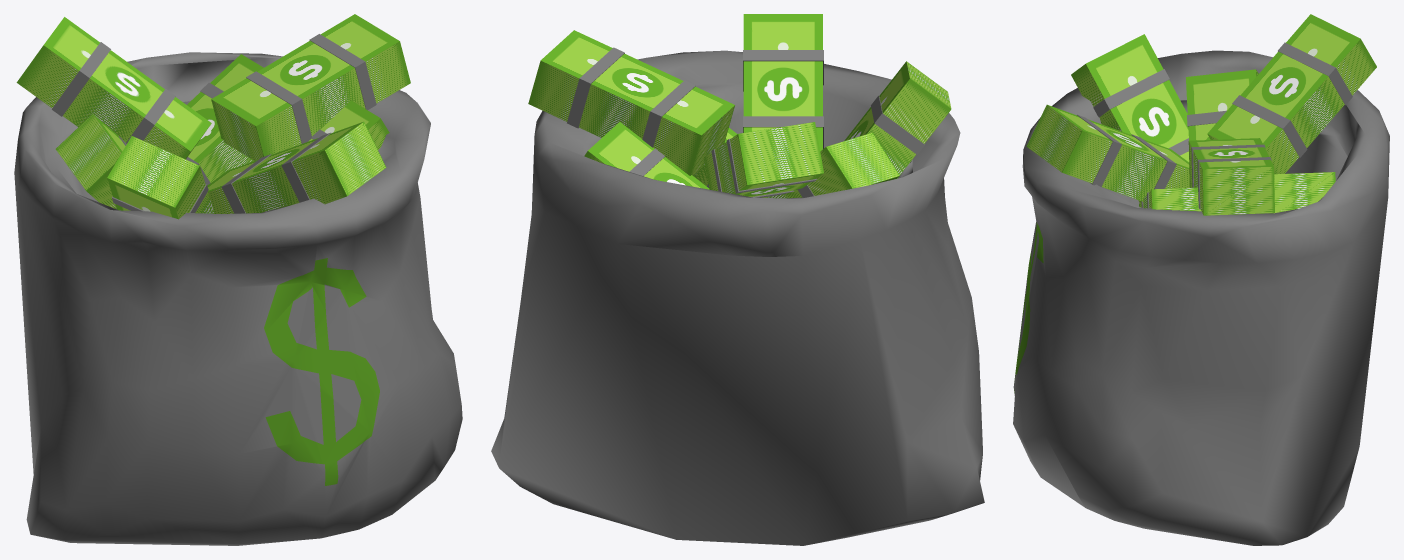
File: moneybag3.fbx
3 renders of one model, left to right at view 1: azimuth 30°, elevation 25°; view 2: azimuth 150°, elevation 25°; view 3: azimuth 270°, elevation 25°, orthographic. The views are drawn at different scales.
Visible parts, largest first — view 1: box, Box1924, Box1930, Box1927, Box1928, Box1929, Box1926, Box1925; view 2: box, Box1924, Box1927, Box1930, Box1928, Box1929, Box1926; view 3: box, Box1930, Box1927, Box1928, Box1924, Box1929, Box1926, Box1925.
Boxes of the visible parts, x1=… form: box: x1=14, y1=52, x2=462, y2=545; Box1924: x1=211, y1=14, x2=410, y2=160; Box1930: x1=16, y1=17, x2=211, y2=159; Box1927: x1=207, y1=121, x2=386, y2=213; Box1928: x1=107, y1=136, x2=214, y2=219; Box1929: x1=55, y1=114, x2=126, y2=209; Box1926: x1=186, y1=54, x2=263, y2=185; Box1925: x1=308, y1=100, x2=389, y2=149; box: x1=491, y1=50, x2=984, y2=545; Box1924: x1=528, y1=30, x2=734, y2=175; Box1927: x1=743, y1=14, x2=823, y2=151; Box1930: x1=704, y1=122, x2=823, y2=197; Box1928: x1=844, y1=61, x2=951, y2=178; Box1929: x1=767, y1=132, x2=899, y2=198; Box1926: x1=584, y1=122, x2=709, y2=189; box: x1=1013, y1=50, x2=1389, y2=545; Box1930: x1=1207, y1=14, x2=1376, y2=174; Box1927: x1=1026, y1=104, x2=1189, y2=201; Box1928: x1=1071, y1=34, x2=1189, y2=202; Box1924: x1=1188, y1=138, x2=1274, y2=215; Box1929: x1=1186, y1=69, x2=1258, y2=140; Box1926: x1=1274, y1=172, x2=1335, y2=213; Box1925: x1=1139, y1=187, x2=1201, y2=211.
Bounding box in the file's own units: 84.62 × 80.93 × 70.76.
